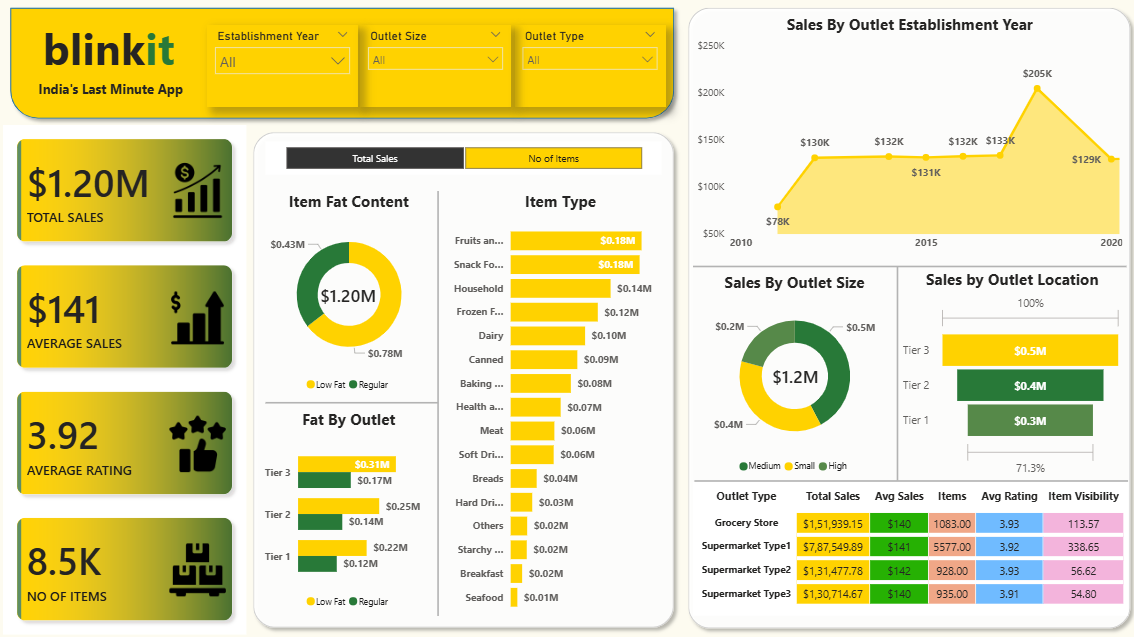

What the dashboard file says about the page in this screenshot:
{"tool":"powerbi","page":{"name":"Page 1","canvas":[1400,800],"ordinal":0},"visuals":[{"type":"shape","box":[7.1,8.8,832.4,153.8],"z":0},{"type":"textbox","box":[51.3,26.5,187.3,91.9],"z":1000},{"type":"textbox","box":[46,100.7,201.5,37.1],"z":2000},{"type":"cardVisual","fields":{"Data":["BlinkIT Grocery Data.Total_Sales","BlinkIT Grocery Data.Avg_Sales","BlinkIT Grocery Data.Avg_Rating","BlinkIT Grocery Data.Avg_Visibility"]},"box":[7.1,162.6,298.7,625.6],"z":3000},{"type":"image","box":[206.8,339.3,79.5,120.2],"z":4000},{"type":"image","box":[206.8,648.6,79.5,120.2],"z":5000},{"type":"image","box":[206.8,493.1,79.5,120.2],"z":6000},{"type":"image","box":[206.8,182,79.5,120.2],"z":7000},{"type":"shape","box":[305.8,162.6,533.7,625.6],"z":8000},{"type":"donutChart","title":"Item Fat Content","fields":{"Y":["BlinkIT Grocery Data.Total Sales"],"Category":["BlinkIT Grocery Data.Item Fat Content"]},"box":[321.7,242.1,219.2,255],"z":9000},{"type":"slicer","fields":{"Values":["Metrics.Metrics"]},"box":[328.7,182,486,40.6],"z":10000},{"type":"card","fields":{"Values":["BlinkIT Grocery Data.Total Sales"]},"box":[382.8,338.7,95.7,66.3],"z":11000},{"type":"clusteredBarChart","title":"Fat By Outlet","fields":{"Y":["BlinkIT Grocery Data.Total Sales"],"Category":["BlinkIT Grocery Data.Outlet Location Type"],"Series":["BlinkIT Grocery Data.Item Fat Content"]},"box":[321.7,509,219.2,254.5],"z":12000},{"type":"shape","box":[498.4,242.1,84.8,521.4],"z":13000},{"type":"shape","box":[328.7,464.8,212.1,74.2],"z":14000},{"type":"shape","box":[839.5,8.8,560.2,779.4],"z":15000},{"type":"barChart","title":"Item Type","fields":{"Y":["BlinkIT Grocery Data.Total Sales"],"Category":["BlinkIT Grocery Data.Item Type"]},"box":[542.6,242.1,296.9,526.7],"z":16000},{"type":"areaChart","title":"Sales By Outlet Establishment Year","fields":{"Y":["Sum(BlinkIT Grocery Data.Sales)"],"Category":["BlinkIT Grocery Data.Outlet Establishment Year"]},"box":[853.6,26.5,532,298.7],"z":17000},{"type":"shape","box":[853.6,305.8,532,60.1],"z":18000},{"type":"donutChart","title":"Sales By Outlet Size","fields":{"Category":["BlinkIT Grocery Data.Outlet Size"],"Y":["Sum(BlinkIT Grocery Data.Sales)"]},"box":[856,342.3,245.7,256.3],"z":19000},{"type":"shape","box":[1053.3,335.8,104.3,263.3],"z":20000},{"type":"funnel","title":"Sales by Outlet Location","fields":{"Category":["BlinkIT Grocery Data.Outlet Location Type"],"Y":["Sum(BlinkIT Grocery Data.Sales)"]},"box":[1106.4,339.3,279.2,259.8],"z":21000},{"type":"shape","box":[855.4,569.1,532,60.1],"z":22000},{"type":"pivotTable","fields":{"Rows":["BlinkIT Grocery Data.Outlet Type"],"Values":["BlinkIT Grocery Data.Total Sales","BlinkIT Grocery Data.Avg_Sales","BlinkIT Grocery Data.No of Items","BlinkIT Grocery Data.Avg_Rating","Sum(BlinkIT Grocery Data.Item Visibility)"]},"box":[854,600,533.8,163.8],"z":23000},{"type":"card","fields":{"Values":["Sum(BlinkIT Grocery Data.Sales)"]},"box":[943.8,433,70.7,77.8],"z":24000},{"type":"slicer","fields":{"Values":["BlinkIT Grocery Data.Outlet Location Type"]},"box":[635.1,37.8,185.3,100.8],"z":25000},{"type":"slicer","fields":{"Values":["BlinkIT Grocery Data.Outlet Establishment Year"]},"box":[257.3,37.8,185.3,100.8],"z":26000},{"type":"slicer","fields":{"Values":["BlinkIT Grocery Data.Outlet Size"]},"box":[446.2,37.8,185.3,100.8],"z":27000}]}

Visuals, with their boxes in screenshot pixels (x1, y1, x2, y2), scaled from the page's 1400x800 canvas onto the 1134x637 screenshot:
shape: bbox(6, 7, 680, 129)
textbox: bbox(42, 21, 193, 94)
textbox: bbox(37, 80, 200, 110)
cardVisual - BlinkIT Grocery Data.Total_Sales x BlinkIT Grocery Data.Avg_Sales: bbox(6, 129, 248, 628)
image: bbox(168, 270, 232, 366)
image: bbox(168, 516, 232, 612)
image: bbox(168, 393, 232, 488)
image: bbox(168, 145, 232, 241)
shape: bbox(248, 129, 680, 628)
"Item Fat Content" donutChart: bbox(261, 193, 438, 396)
slicer - Metrics.Metrics: bbox(266, 145, 660, 177)
card - BlinkIT Grocery Data.Total Sales: bbox(310, 270, 388, 322)
"Fat By Outlet" clusteredBarChart: bbox(261, 405, 438, 608)
shape: bbox(404, 193, 472, 608)
shape: bbox(266, 370, 438, 429)
shape: bbox(680, 7, 1133, 628)
"Item Type" barChart: bbox(440, 193, 680, 612)
"Sales By Outlet Establishment Year" areaChart: bbox(691, 21, 1122, 259)
shape: bbox(691, 243, 1122, 291)
"Sales By Outlet Size" donutChart: bbox(693, 273, 892, 477)
shape: bbox(853, 267, 938, 477)
"Sales by Outlet Location" funnel: bbox(896, 270, 1122, 477)
shape: bbox(693, 453, 1124, 501)
pivotTable - BlinkIT Grocery Data.Outlet Type x BlinkIT Grocery Data.Total Sales: bbox(692, 478, 1124, 608)
card - Sum(BlinkIT Grocery Data.Sales): bbox(764, 345, 822, 407)
slicer - BlinkIT Grocery Data.Outlet Location Type: bbox(514, 30, 665, 110)
slicer - BlinkIT Grocery Data.Outlet Establishment Year: bbox(208, 30, 359, 110)
slicer - BlinkIT Grocery Data.Outlet Size: bbox(361, 30, 512, 110)
